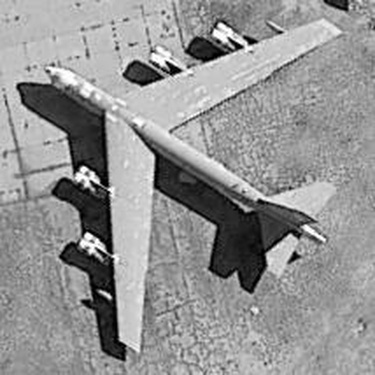airplane: (11, 4, 352, 358)
